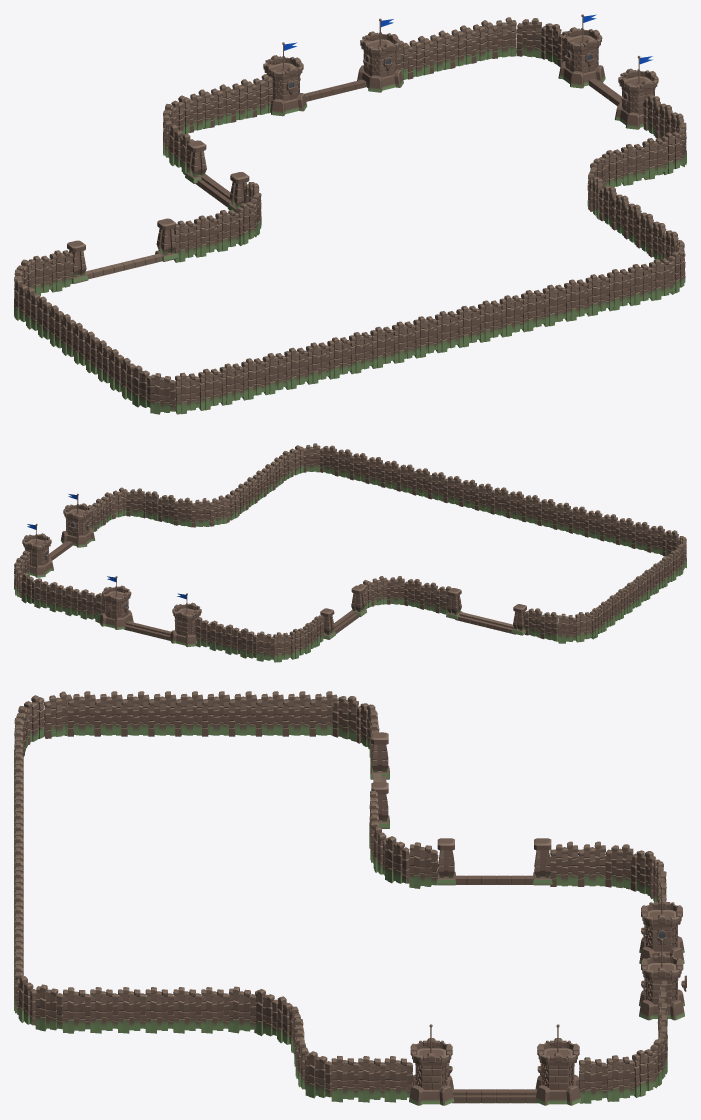
Rendered from Wall village.fbx.
3 views of the same model, one above another, from view 1: azimuth 30°, elevation 25°; view 2: azimuth 150°, elevation 25°; view 3: azimuth 270°, elevation 25° (orthographic). The views are drawn at different scales.
Visible parts, largest first — view 1: Cube.076, Cube.134, Cube.133, Cube.080, Cube.091, Cube.095, Cube.089, Cube.081, Cube.093, Cube.087, Cube.099, Cube.084 (+40 smaller); view 2: Cube.107, Cube.114, Cube.149, Cube.025, Cube.150, Cube.004, Cube.115, Cube.108, Cube.122, Cube.103, Cube.010, Cube.091 (+47 smaller); view 3: Cube.110, Cube.042, Cube.040, Cube.101, Cube.132, Cube.039, Cube.199, Cube.064, Cube.063, Cube.102, Cube.131, Cube.077 (+40 smaller).
Part boxes in pixels (<box>): Cube.076: <box>150,373,175,414</box>; Cube.134: <box>492,17,516,58</box>; Cube.133: <box>516,18,541,58</box>; Cube.080: <box>175,372,200,414</box>; Cube.091: <box>413,316,437,358</box>; Cube.095: <box>499,295,523,337</box>; Cube.089: <box>370,326,394,368</box>; Cube.081: <box>198,368,222,410</box>; Cube.093: <box>456,305,480,347</box>; Cube.087: <box>327,337,351,379</box>; Cube.099: <box>585,274,609,316</box>; Cube.084: <box>262,353,286,395</box>; Cube.107: <box>558,613,576,643</box>; Cube.114: <box>191,498,209,527</box>; Cube.149: <box>256,631,274,661</box>; Cube.025: <box>540,612,558,641</box>; Cube.150: <box>273,632,291,662</box>; Cube.004: <box>209,495,227,526</box>; Cube.115: <box>174,497,192,527</box>; Cube.108: <box>386,576,404,604</box>; Cube.122: <box>126,488,144,517</box>; Cube.103: <box>303,443,320,472</box>; Cube.010: <box>404,579,421,608</box>; Cube.091: <box>490,487,508,516</box>; Cube.110: <box>409,842,438,888</box>; Cube.042: <box>145,987,173,1033</box>; Cube.040: <box>173,987,201,1033</box>; Cube.101: <box>62,987,90,1033</box>; Cube.132: <box>579,1057,607,1103</box>; Cube.039: <box>201,987,229,1033</box>; Cube.199: <box>606,1055,635,1101</box>; Cube.064: <box>90,987,118,1033</box>; Cube.063: <box>117,987,145,1033</box>; Cube.102: <box>35,984,63,1031</box>; Cube.131: <box>384,1056,412,1102</box>; Cube.077: <box>577,841,605,886</box>.
Size of the model in its own units: 15.46 by 1.46 by 11.7.
